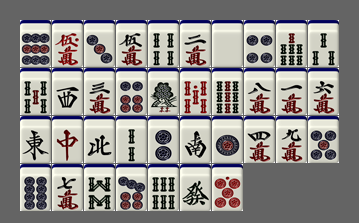0m: (52, 20, 83, 67)
0p: (212, 164, 243, 211)
0s: (180, 68, 211, 115)
1m: (276, 68, 307, 115)
1p: (212, 116, 243, 163)
1s: (148, 68, 179, 115)
1z: (20, 116, 51, 163)
2m: (180, 20, 211, 67)
2p: (148, 116, 179, 163)
2s: (116, 116, 147, 163)
2z: (180, 116, 211, 163)
3m: (84, 68, 115, 115)
3p: (84, 20, 115, 67)
3s: (308, 20, 339, 67)
3z: (52, 68, 83, 115)
4m: (244, 116, 275, 163)
4p: (244, 20, 275, 67)
4s: (148, 20, 179, 67)
4z: (84, 116, 115, 163)
5m: (116, 20, 147, 67)
5p: (308, 116, 339, 163)
5s: (20, 68, 51, 115)
5z: (212, 20, 243, 67)
6m: (308, 68, 339, 115)
6p: (116, 68, 147, 115)
6s: (148, 164, 179, 211)
6z: (180, 164, 211, 211)
7m: (52, 164, 83, 211)
7p: (116, 164, 147, 211)
7s: (276, 20, 307, 67)
7z: (52, 116, 83, 163)
8m: (244, 68, 275, 115)
8p: (20, 164, 51, 211)
8s: (84, 164, 115, 211)
9m: (276, 116, 307, 163)
9p: (20, 20, 51, 67)
9s: (212, 68, 243, 115)
